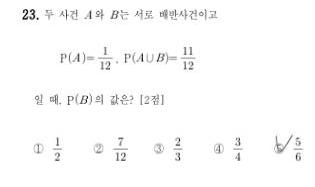choice: (273, 136, 285, 154)
not-choice: (211, 142, 224, 155), (31, 142, 45, 154), (91, 142, 105, 154), (152, 141, 164, 154)
